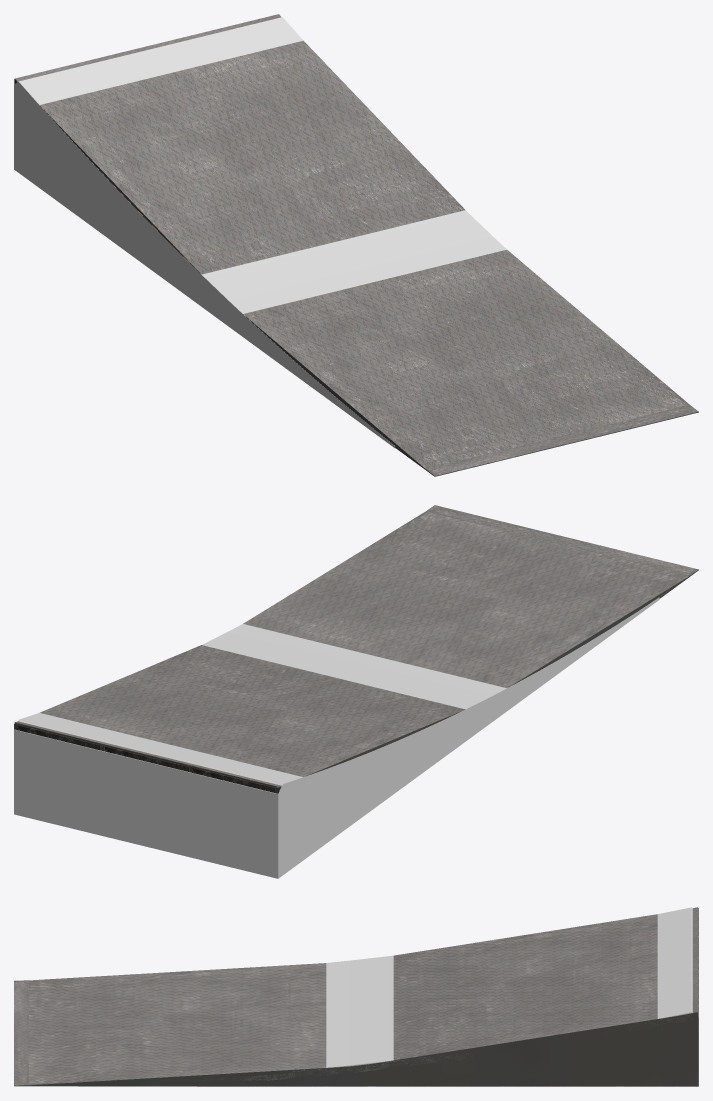
Rendered from ramp_shallow_long.dae.
3 views of the same model, one above another, from view 1: azimuth 30°, elevation 25°; view 2: azimuth 150°, elevation 25°; view 3: azimuth 270°, elevation 25° (orthographic). The views are drawn at different scales.
Visible parts, largest first — view 1: ramp_shallow_long_a020, Colmesh-1, ramp_shallow_long_a200; view 2: ramp_shallow_long_a020, Colmesh-1, ramp_shallow_long_a200; view 3: ramp_shallow_long_a020, Colmesh-1, ramp_shallow_long_a200.
Boxes of the visible parts, x1,y1,x2,y2 form: ramp_shallow_long_a020: [15, 40, 689, 472]; Colmesh-1: [14, 17, 506, 448]; ramp_shallow_long_a200: [14, 14, 698, 476]; ramp_shallow_long_a020: [15, 511, 694, 787]; Colmesh-1: [14, 597, 659, 878]; ramp_shallow_long_a200: [14, 505, 698, 793]; ramp_shallow_long_a020: [14, 914, 697, 1086]; Colmesh-1: [78, 907, 698, 1086]; ramp_shallow_long_a200: [14, 907, 698, 1086].
Size of the model in its own units: 4 by 11.04 by 1.32.
1 material, 1 textured.
